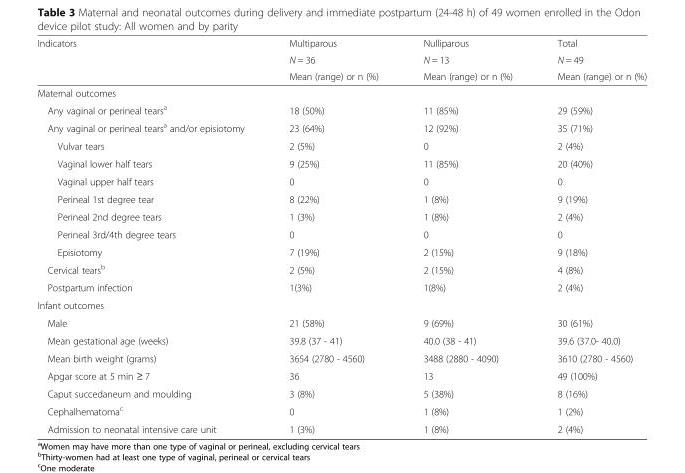table: (36, 37, 646, 434)
table column: (36, 37, 266, 434), (266, 37, 400, 434), (400, 37, 534, 434), (534, 37, 646, 434)
table column header: (36, 37, 646, 84)
table projected row header: (36, 296, 646, 313), (36, 84, 646, 100)
table row: (36, 259, 646, 278), (36, 401, 646, 420), (36, 100, 646, 118), (36, 118, 646, 136), (36, 136, 646, 154), (36, 154, 646, 172), (36, 189, 646, 207), (36, 207, 646, 225), (36, 225, 646, 243), (36, 278, 646, 296), (36, 313, 646, 331), (36, 331, 646, 349), (36, 366, 646, 384), (36, 50, 646, 67), (36, 67, 646, 84), (36, 172, 646, 189), (36, 296, 646, 313), (36, 349, 646, 366), (36, 384, 646, 401), (36, 84, 646, 100), (36, 243, 646, 259), (36, 420, 646, 434), (36, 37, 646, 50)
table spanning cell: (36, 37, 266, 84), (266, 37, 400, 84), (400, 37, 534, 84), (534, 37, 646, 84)
